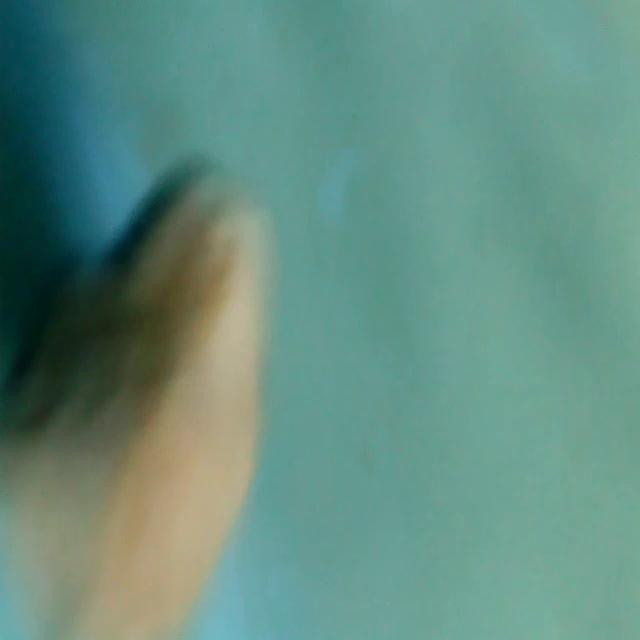rock: (16, 152, 277, 640)
